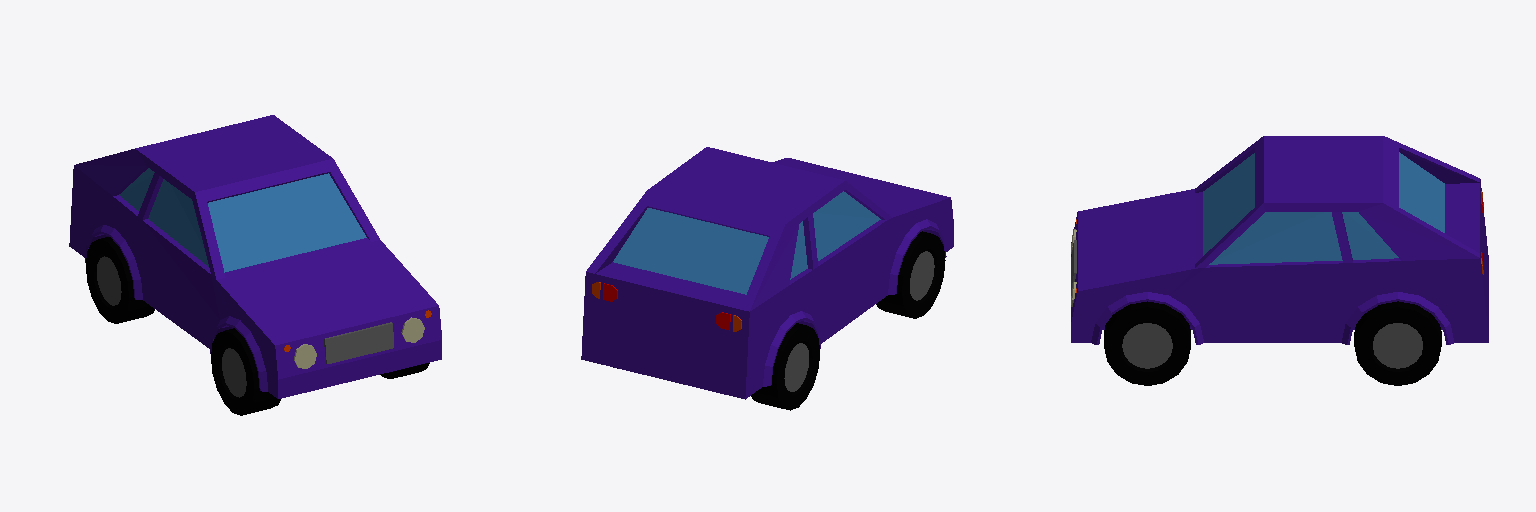
The model's file is car-hatchback-violet.obj.
3 views of the same model, side by side, from view 1: azimuth 30°, elevation 25°; view 2: azimuth 150°, elevation 25°; view 3: azimuth 270°, elevation 25° (orthographic).
Parts seen in each view (by area): view 1: car-hatchback-violet_Cube.641; view 2: car-hatchback-violet_Cube.641; view 3: car-hatchback-violet_Cube.641.
Part boxes in pixels (bbox=[...]): car-hatchback-violet_Cube.641: bbox=[69, 115, 441, 415]; car-hatchback-violet_Cube.641: bbox=[581, 147, 953, 410]; car-hatchback-violet_Cube.641: bbox=[1071, 136, 1488, 385].
Size of the model in its own units: 0.8924 by 0.8235 by 1.81.